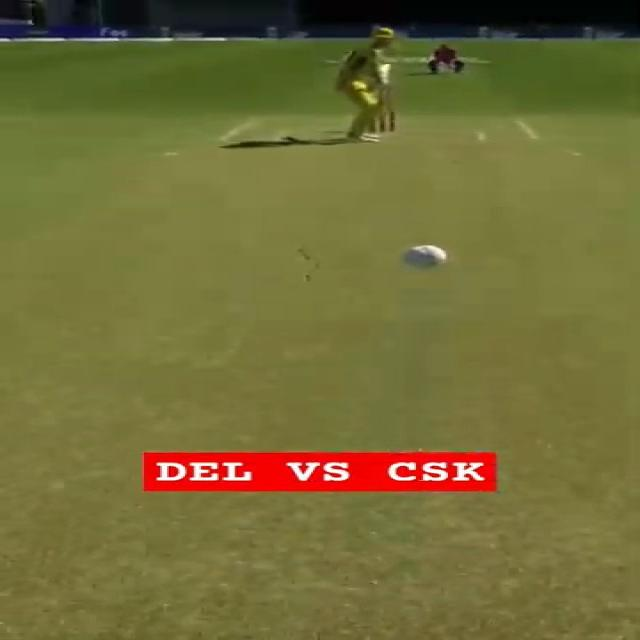ball: (404, 244, 446, 268)
